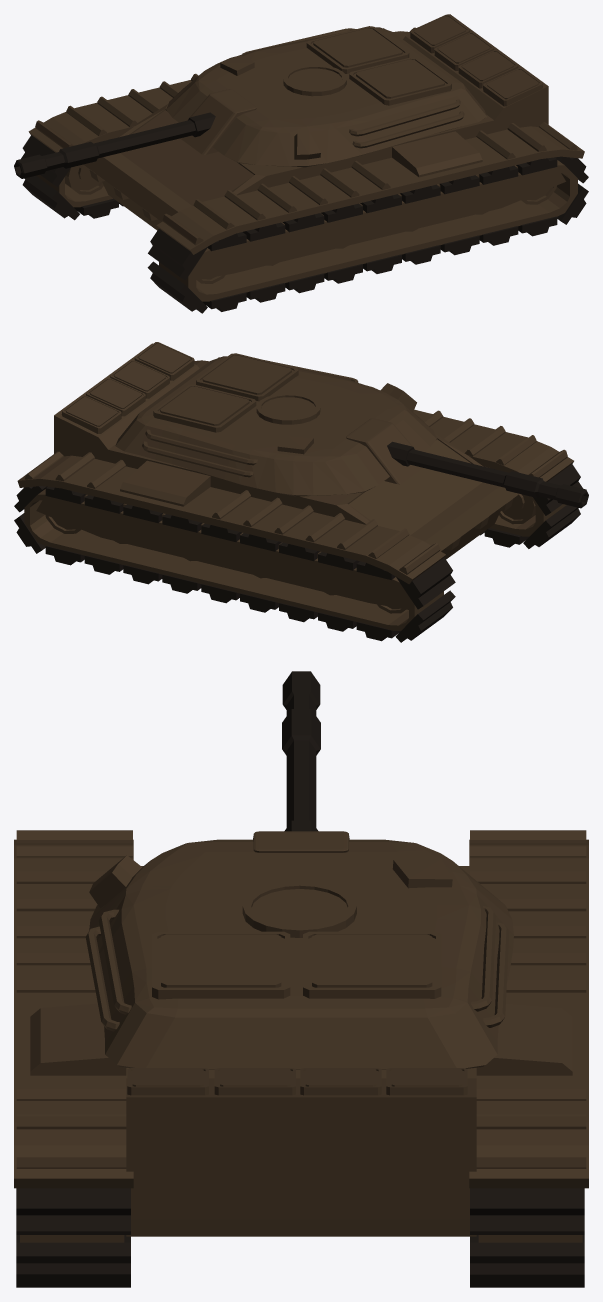
Rendered from tank2.glb.
3 views of the same model, one above another, from view 1: azimuth 30°, elevation 25°; view 2: azimuth 150°, elevation 25°; view 3: azimuth 270°, elevation 25° (orthographic). The views are drawn at different scales.
Parts seen in each view (by area): view 1: Tank_body_Cube.009, Tank_Turret_Cube, TrackMesh.L_Cube.051, Tank_Gun_Cube.012, TrackMesh.R_Cube.000; view 2: Tank_body_Cube.009, Tank_Turret_Cube, TrackMesh.R_Cube.000, Tank_Gun_Cube.012, TrackMesh.L_Cube.051; view 3: Tank_body_Cube.009, Tank_Turret_Cube, TrackMesh.R_Cube.000, TrackMesh.L_Cube.051, Tank_Gun_Cube.012.
Part boxes in pixels (left/top/right/bottom): Tank_body_Cube.009: left=28, top=14, right=584, bottom=301; Tank_Turret_Cube: left=166, top=26, right=486, bottom=167; TrackMesh.L_Cube.051: left=147, top=156, right=588, bottom=313; Tank_Gun_Cube.012: left=14, top=112, right=215, bottom=178; TrackMesh.R_Cube.000: left=21, top=135, right=123, bottom=220; Tank_body_Cube.009: left=17, top=342, right=573, bottom=630; Tank_Turret_Cube: left=115, top=353, right=436, bottom=496; TrackMesh.R_Cube.000: left=14, top=486, right=455, bottom=642; Tank_Gun_Cube.012: left=387, top=441, right=588, bottom=508; TrackMesh.L_Cube.051: left=480, top=464, right=582, bottom=548; Tank_body_Cube.009: left=14, top=830, right=588, bottom=1242; Tank_Turret_Cube: left=85, top=831, right=513, bottom=1069; TrackMesh.R_Cube.000: left=470, top=1188, right=584, bottom=1287; TrackMesh.L_Cube.051: left=16, top=1188, right=130, bottom=1287; Tank_Gun_Cube.012: left=282, top=671, right=320, bottom=831.
Bounding box in the file's own units: 17.68 × 4.62 × 10.09.
